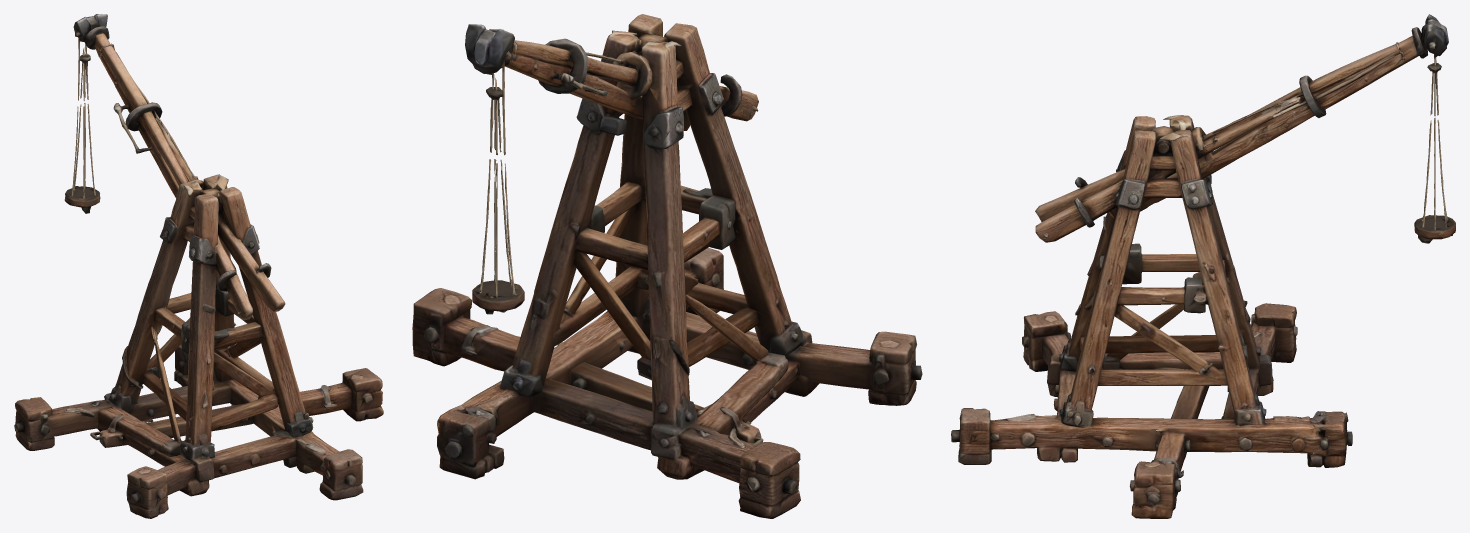
File: trebuchet-mid.glb
The picture shows the model from 3 angles, left to right: view 1: azimuth 30°, elevation 25°; view 2: azimuth 150°, elevation 25°; view 3: azimuth 270°, elevation 25°; orthographic projection. The views are drawn at different scales.
Size of the model in its own units: 0.8292 by 0.8891 by 0.9991.
1 material, 1 textured.
